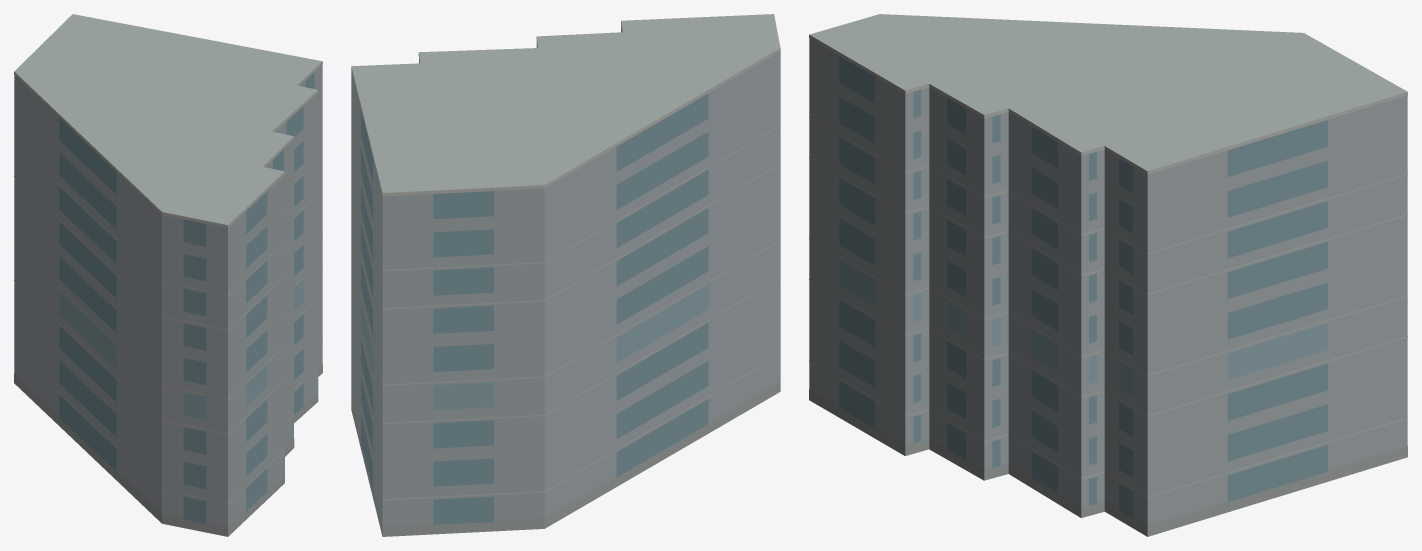
The model's file is survey-upis-32525738.glb.
3 renders of one model, left to right at view 1: azimuth 30°, elevation 25°; view 2: azimuth 150°, elevation 25°; view 3: azimuth 270°, elevation 25°, orthographic. The views are drawn at different scales.
Parts seen in each view (by area): view 1: survey-upis-32525738.tmp; view 2: survey-upis-32525738.tmp; view 3: survey-upis-32525738.tmp.
Boxes of the visible parts, <box> form: survey-upis-32525738.tmp: <box>14,14,322,536</box>; survey-upis-32525738.tmp: <box>351,14,780,536</box>; survey-upis-32525738.tmp: <box>809,14,1407,536</box>.
Size of the model in its own units: 23.1 by 25 by 37.12.
